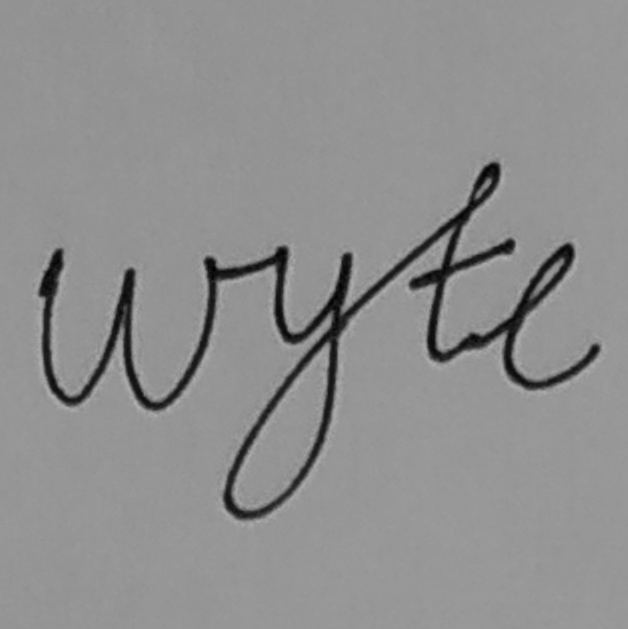e: (498, 236, 606, 393)
t: (404, 158, 521, 365)
w: (31, 241, 223, 418)
y: (217, 240, 355, 523)
